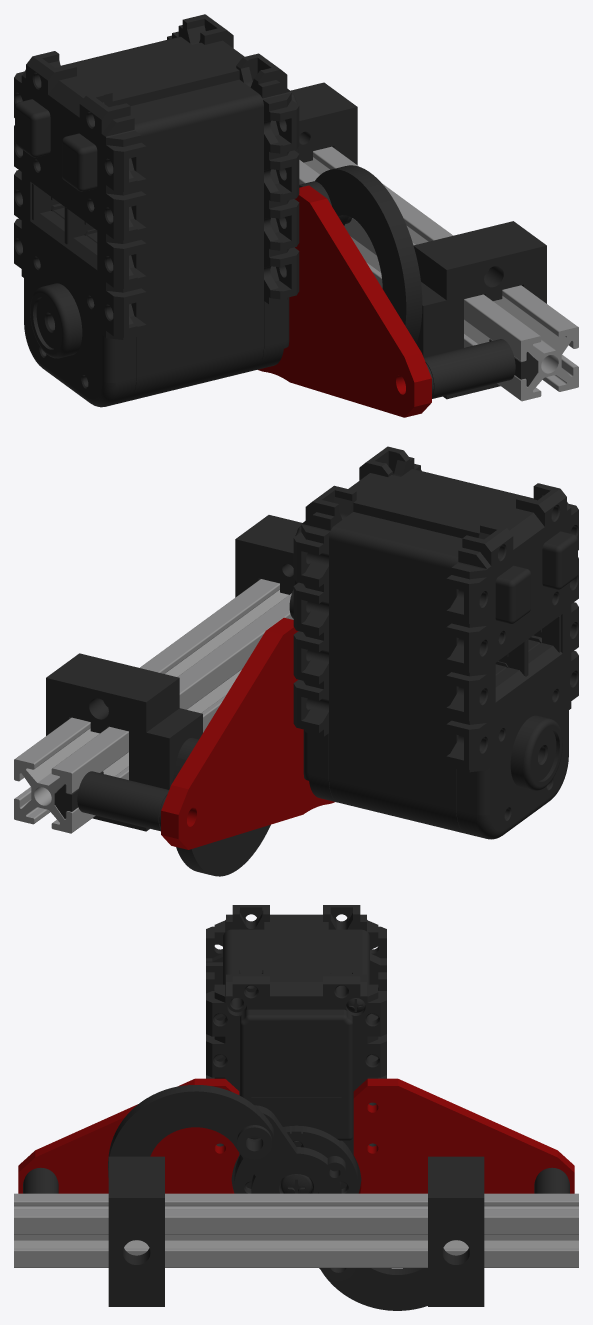
Rendered from wrist_rotate.dae.
3 views of the same model, one above another, from view 1: azimuth 30°, elevation 25°; view 2: azimuth 150°, elevation 25°; view 3: azimuth 270°, elevation 25° (orthographic). The views are drawn at different scales.
Parts seen in each view (by area): view 1: 3d printed Gripper v4.001; view 2: 3d printed Gripper v4.001; view 3: 3d printed Gripper v4.001.
Part boxes in pixels (x1,y1,x2,y2): 3d printed Gripper v4.001: (14, 14, 578, 417); 3d printed Gripper v4.001: (14, 446, 578, 876); 3d printed Gripper v4.001: (14, 905, 578, 1310).
Bounding box in the file's own units: 0.0671 × 0.1 × 0.0599.
